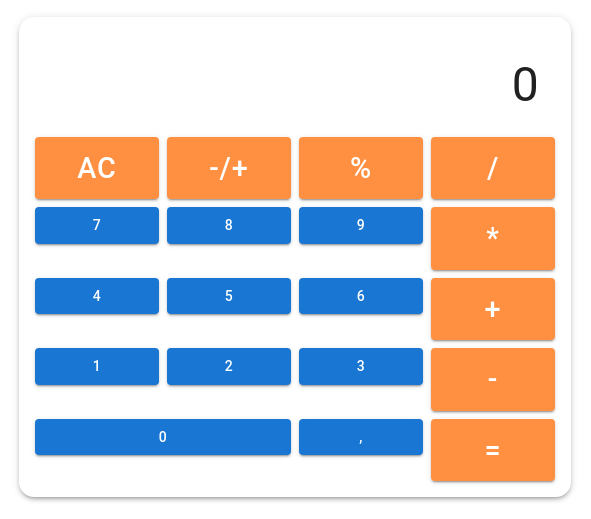
Test: Calculator App tests › Does addition corectly
Click the button "4".
click(97, 296)  # box [35, 278, 159, 314]
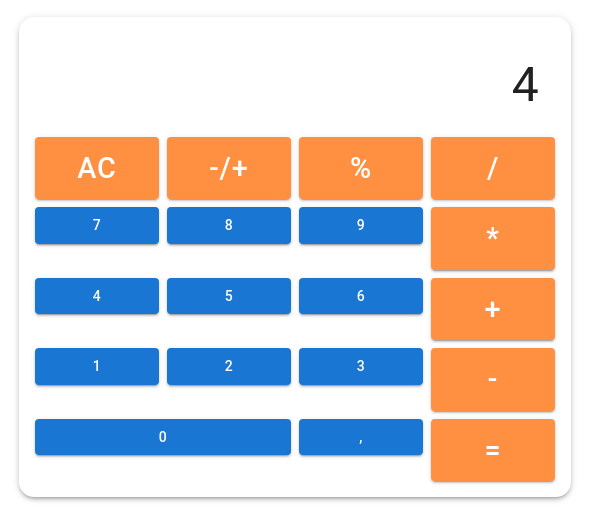
Click the button "0".
click(163, 437)  # box [35, 419, 291, 455]
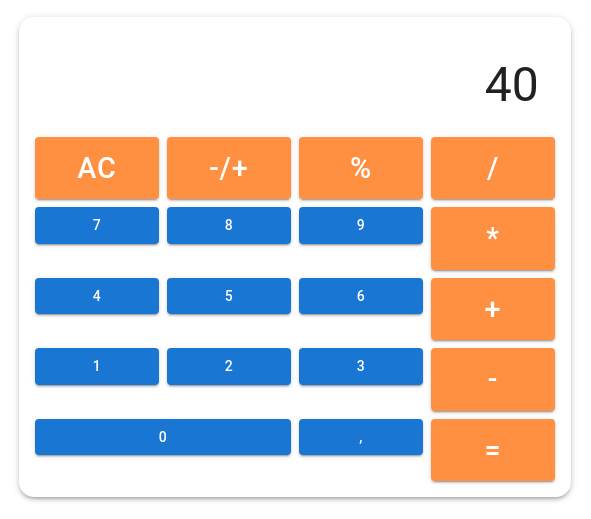
Click the button "+".
click(493, 309)  # box [431, 278, 555, 340]
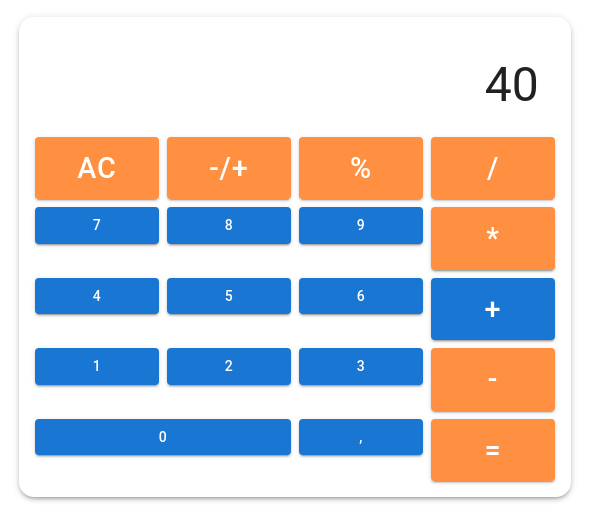
Click the button "6".
click(361, 296)  # box [299, 278, 423, 314]
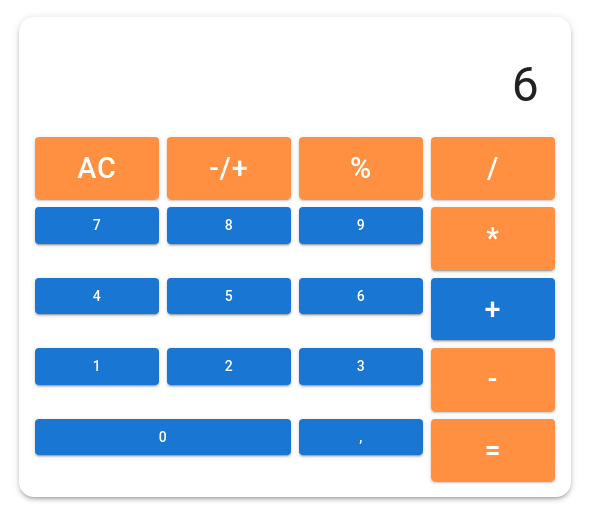
Click the button "=".
click(493, 450)  # box [431, 419, 555, 481]
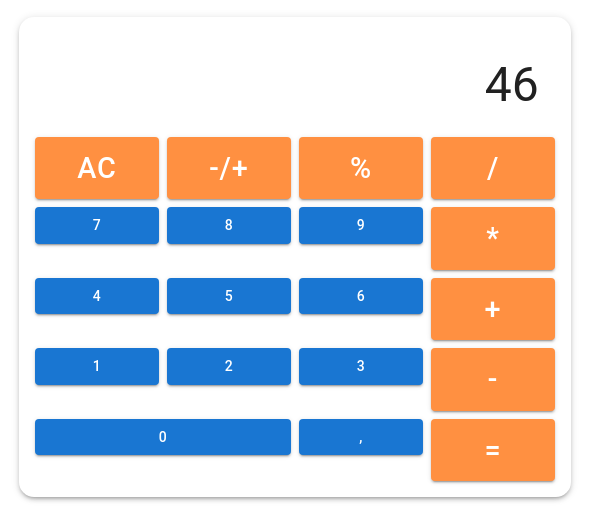
Now the text with test id "output" reads "46", box [485, 56, 539, 113]
